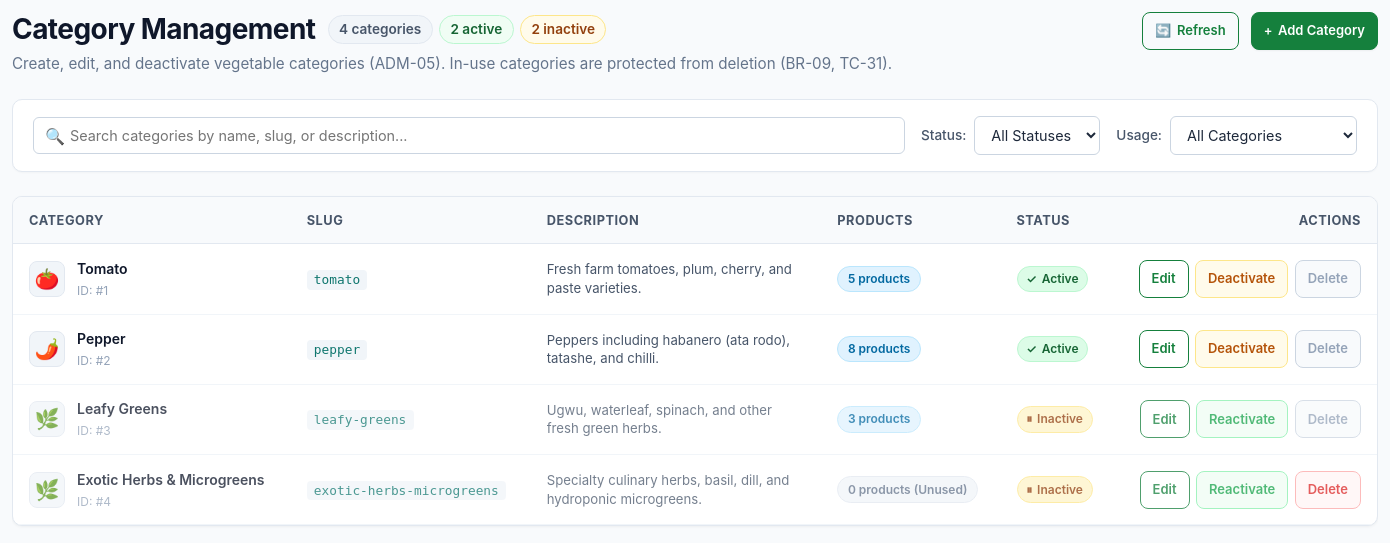
Test: FE-100 / ADM-05: Admin Categories Management Page › 2. Search, Status & Usage Filtering (ADM-05) › filters categories by search keyword matching name or description
The image size is (1390, 543).
expect the table with test id "categories-table" is shown: met, box [13, 197, 1377, 525]
Type "Pepper" into the search field with test id "search-categories-input" at (469, 136), box [33, 117, 905, 154]
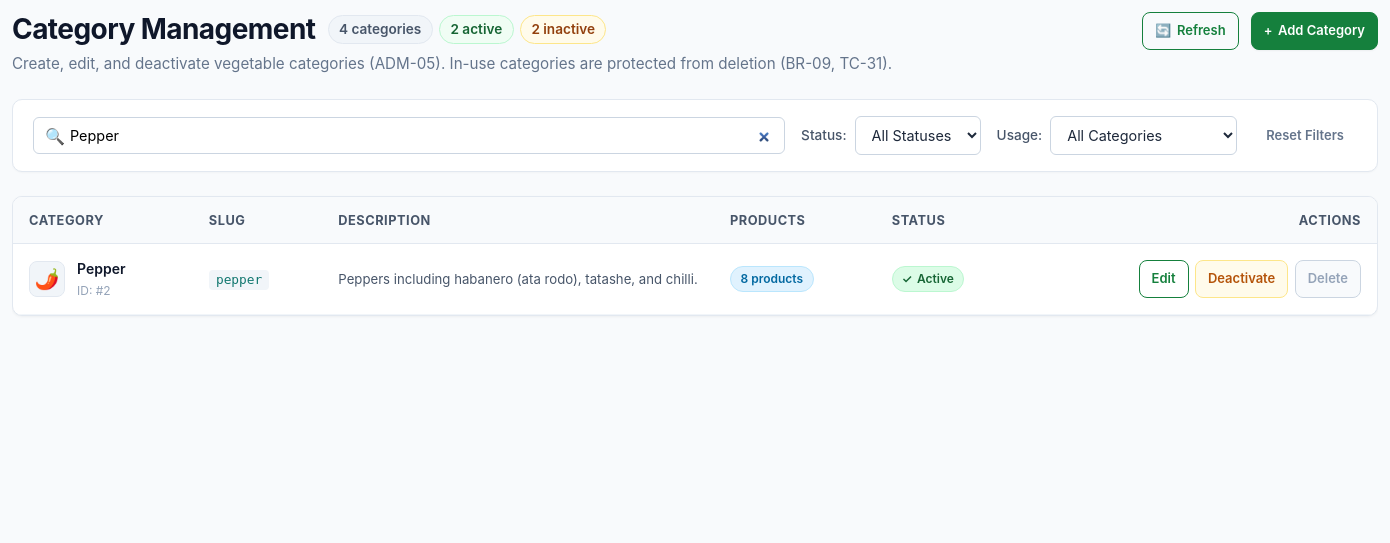
expect the text with test id "category-name-2" reads "Pepper": met, box [77, 260, 126, 277]
expect the text with test id "category-name-1" is gone: met
expect the text with test id "category-name-3" is gone: met
